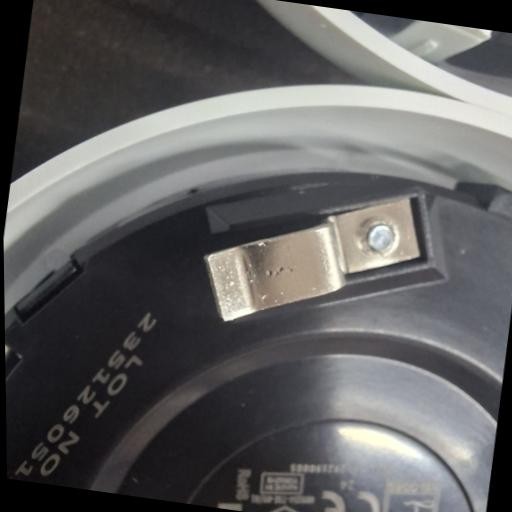yaysiz: (188, 168, 434, 348)
